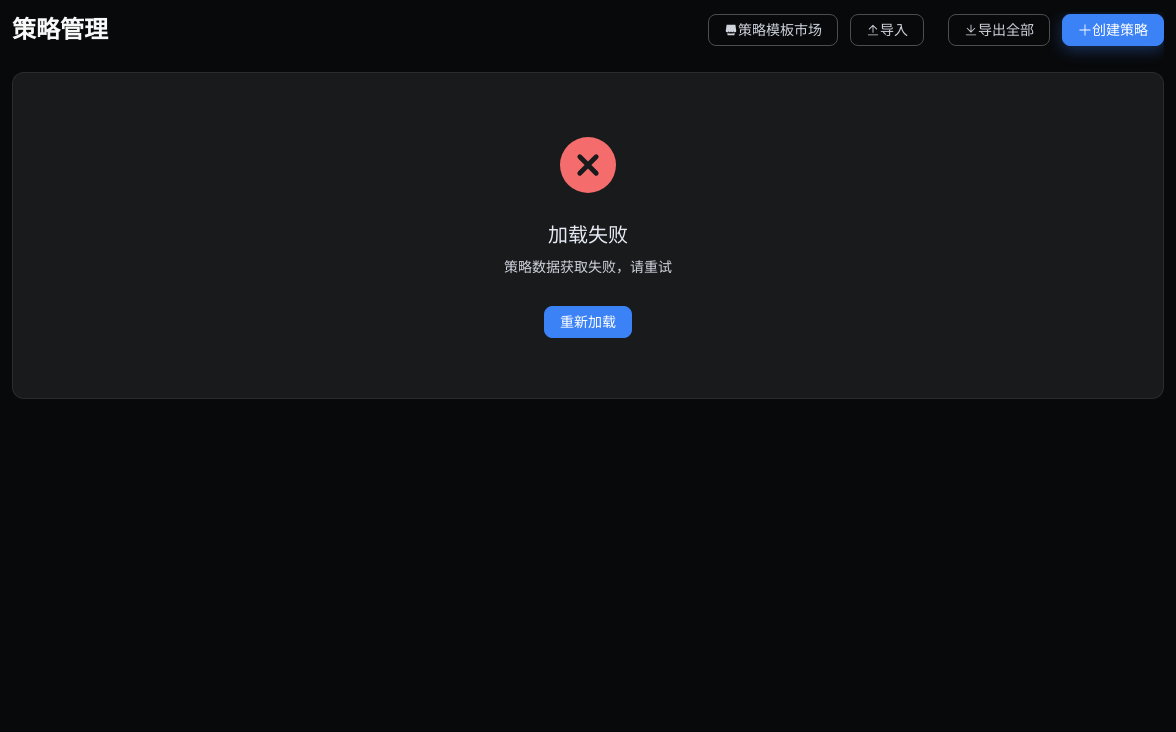
Scenario: StrategiesView › supports retry on error
This screenshot has width=1176, height=732.
Click retry button — it's in el-result's #extra slot (footer area)
Click the button "重新加载".
click(588, 322)  # box [544,306,632,338]
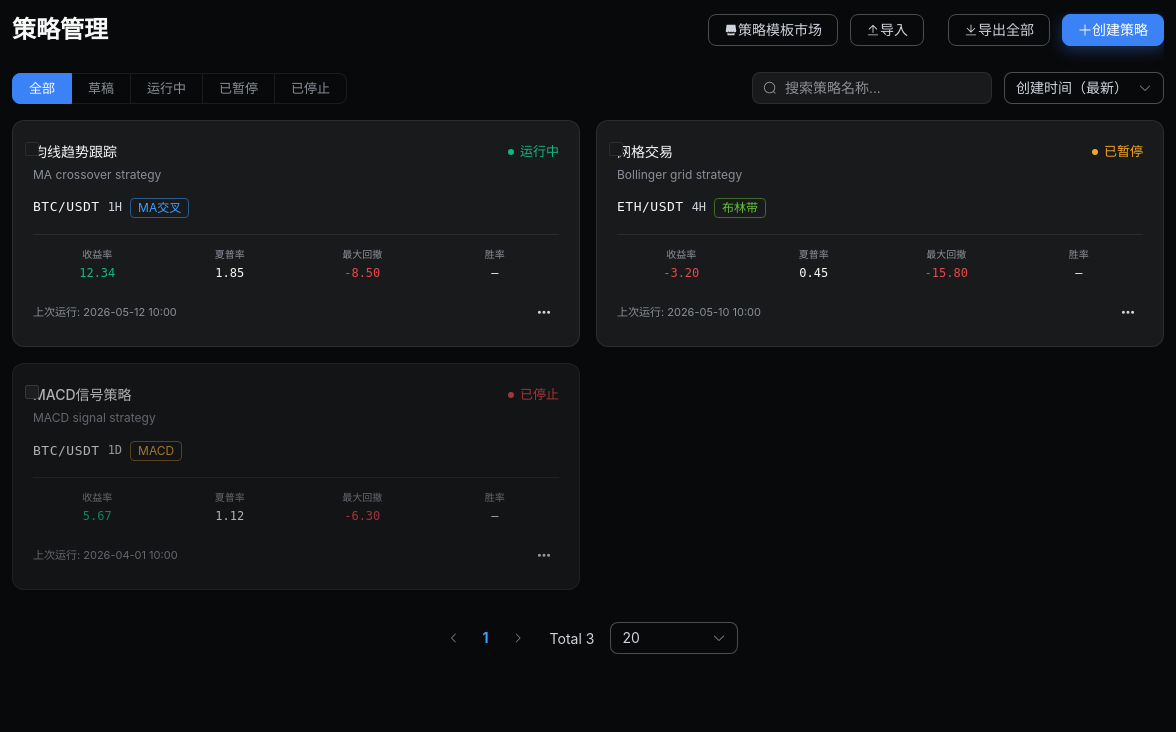
Result: the text "均线趋势跟踪" is shown at [33,141,117,162]
